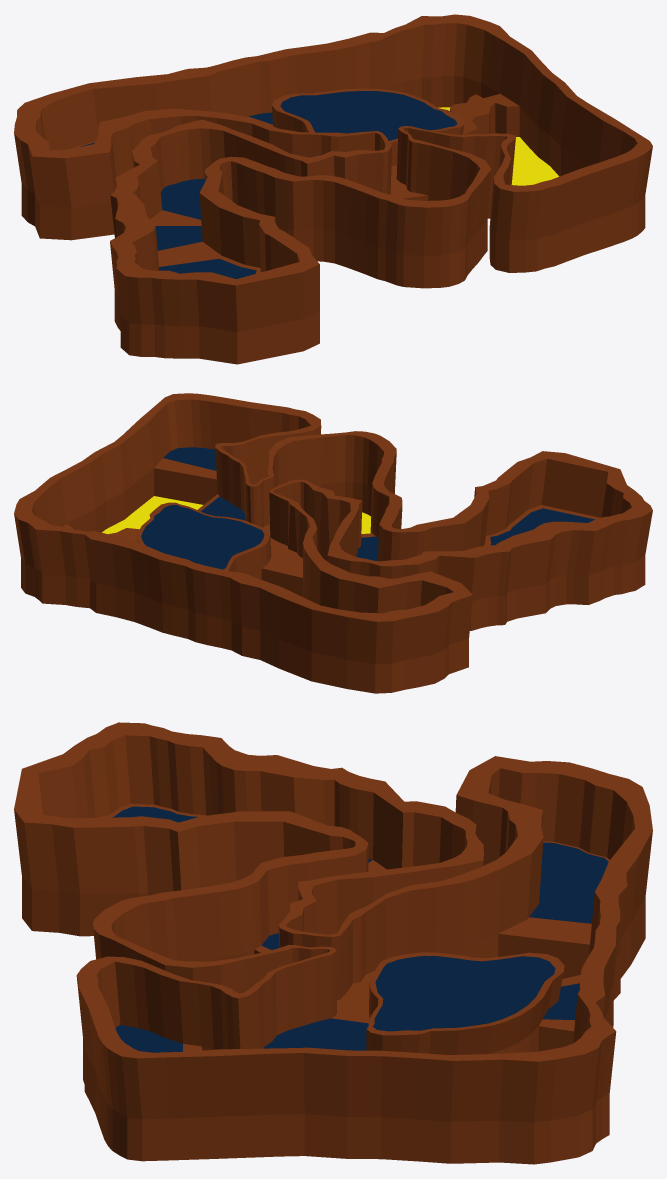
Rendered from Map 1.fbx.
3 renders of one model, top to bottom at view 1: azimuth 30°, elevation 25°; view 2: azimuth 150°, elevation 25°; view 3: azimuth 270°, elevation 25°, orthographic. The views are drawn at different scales.
Parts seen in each view (by area): view 1: Map; view 2: Map; view 3: Map.
Part boxes in pixels (x1,y1,x2,y2): Map: [14, 14, 652, 364]; Map: [14, 393, 652, 693]; Map: [14, 722, 652, 1164].
Size of the model in its own units: 22019 by 3225 by 17528.
